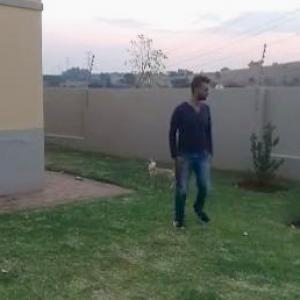follow: (164, 72, 215, 230)
